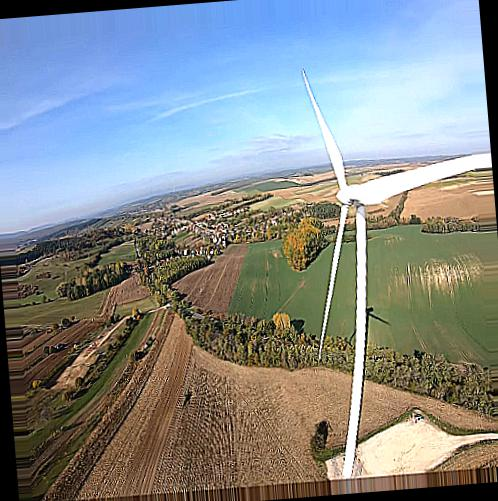wind turbine: (300, 67, 495, 483)
